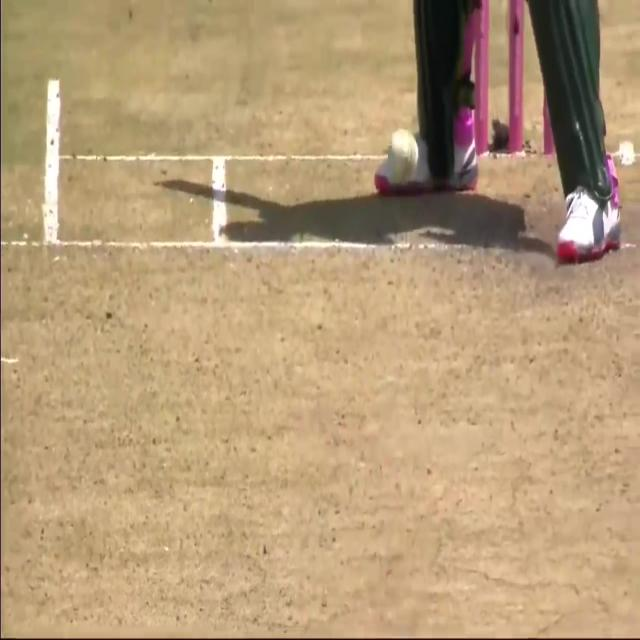Batsman: (376, 118, 427, 202)
